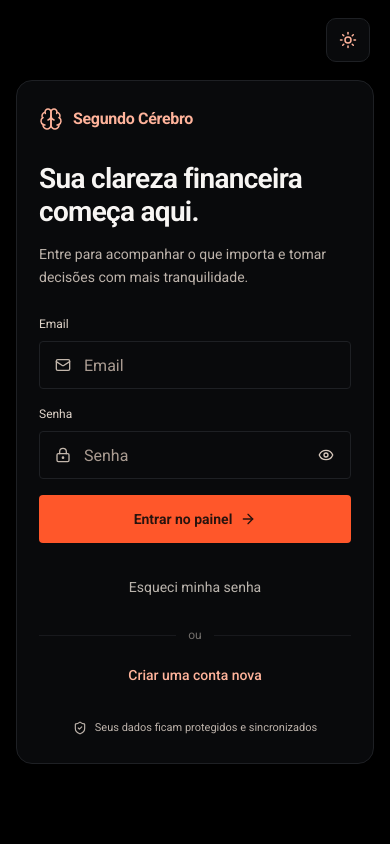
Test: keeps recovery available without requesting a password or sending an email on view change
Click the button "Esqueci minha senha". click: (195, 587)
box: x1=123 y1=567 x2=267 y2=607
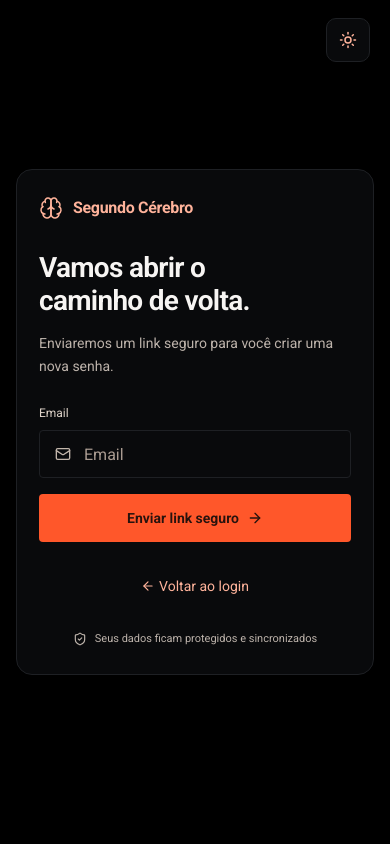
Check: the button "Enviar link seguro" is shown, box x1=39 y1=494 x2=351 y2=542
